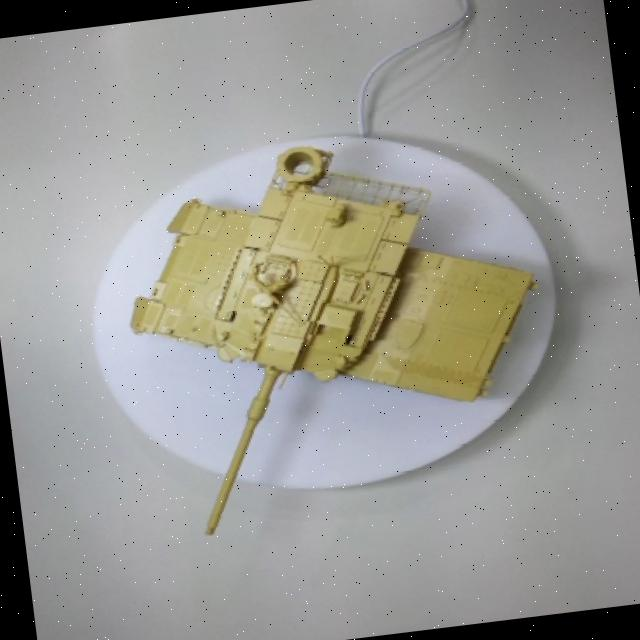korea tank: (81, 122, 560, 592)
